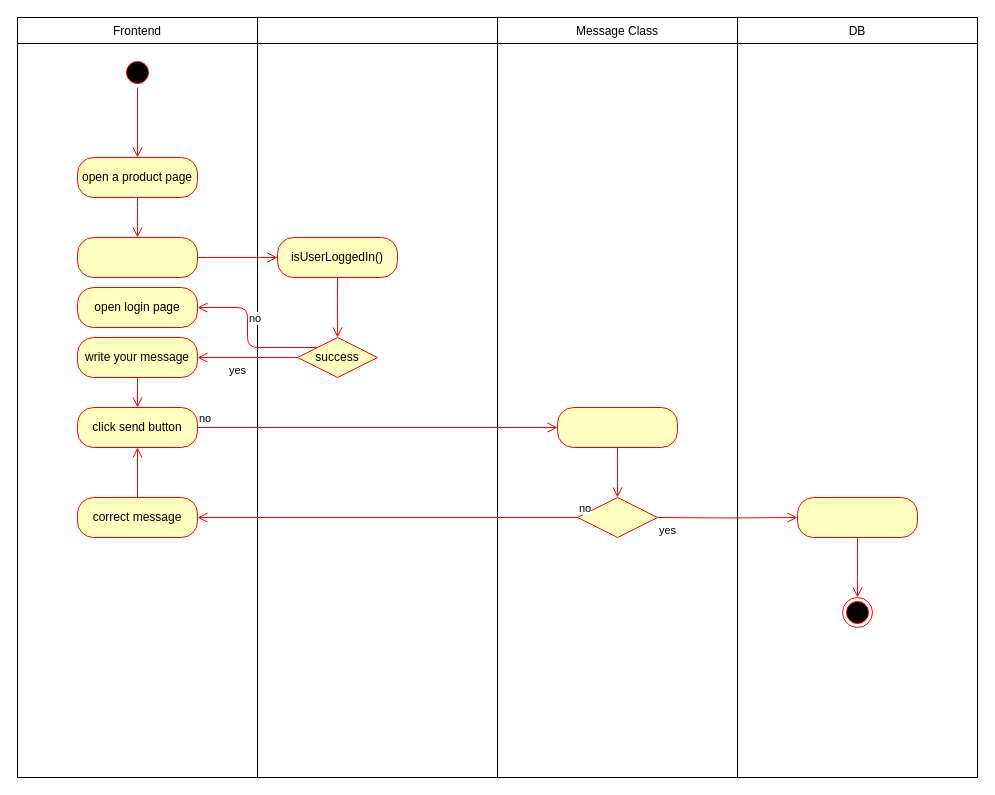
The diagram is 995 pixels wide and 795 high, and some of its shapes have lost their labels. The box of each missing label's shape, as (x1, y1, x2, y2) in pixels:
click "contact owner": (76, 236, 198, 278)
send message: (796, 496, 918, 538)
User Class: (256, 16, 498, 778)
valid: (576, 496, 658, 538)
validate Message: (556, 406, 678, 448)
